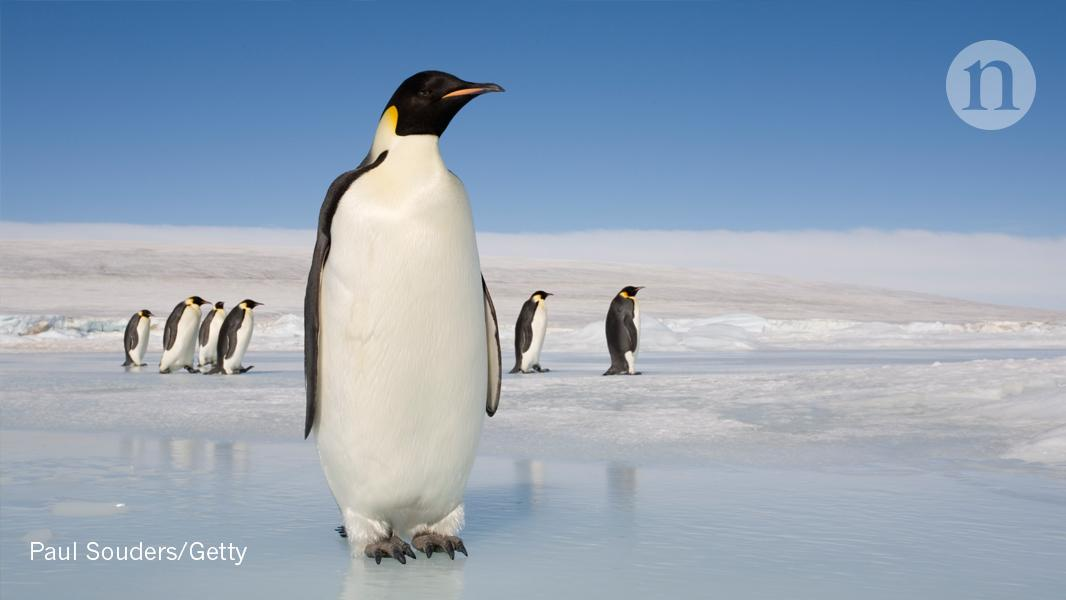emporer: (249, 49, 551, 594)
